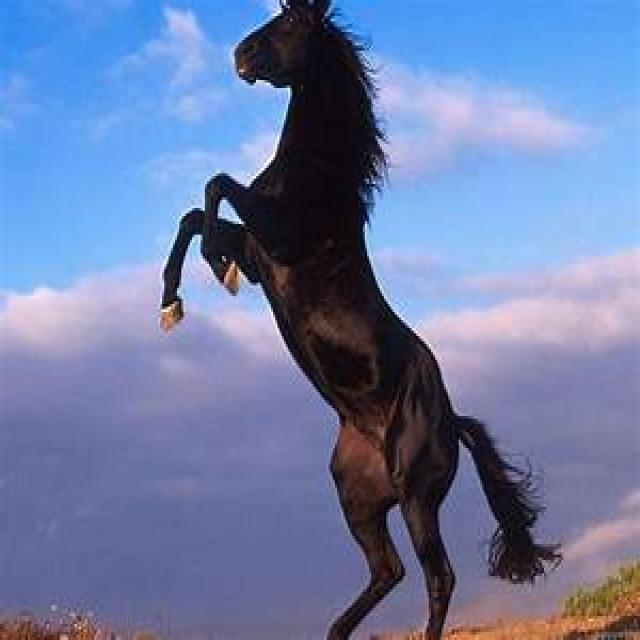horse: (162, 0, 561, 640)
